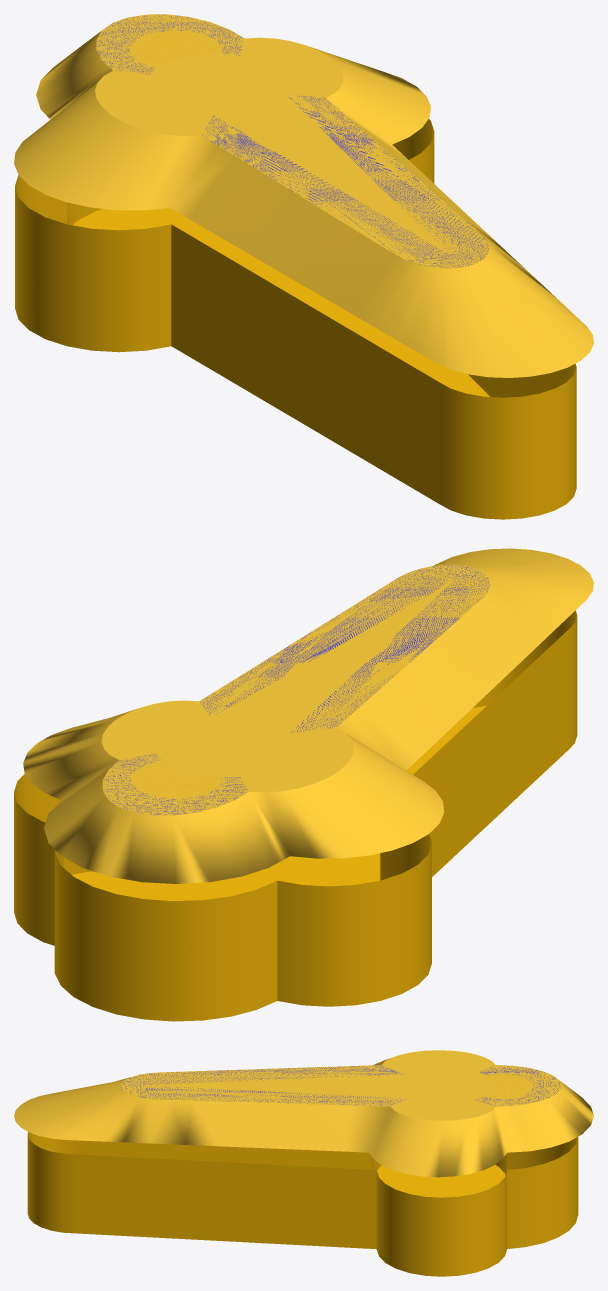
The model's file is sarcophagus.dae.
3 renders of one model, top to bottom at view 1: azimuth 30°, elevation 25°; view 2: azimuth 150°, elevation 25°; view 3: azimuth 270°, elevation 25°, orthographic. The views are drawn at different scales.
Parts seen in each view (by area): view 1: sarcophagus_lid (×4), sarcophagus; view 2: sarcophagus_lid (×4), sarcophagus; view 3: sarcophagus, sarcophagus_lid (×4).
Boxes of the visible parts, <box> form: sarcophagus_lid (×4): <box>14,14,593,377</box>; sarcophagus: <box>15,119,576,519</box>; sarcophagus_lid (×4): <box>23,548,593,883</box>; sarcophagus: <box>14,610,577,1021</box>; sarcophagus: <box>27,1132,578,1276</box>; sarcophagus_lid (×4): <box>14,1050,593,1177</box>.
Bounding box in the file's own units: 287 × 557 × 135.
